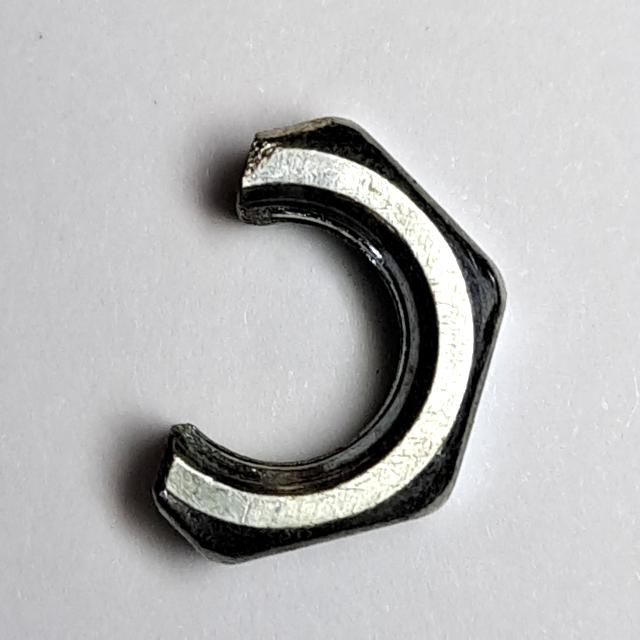Fracture: (138, 104, 519, 576)
